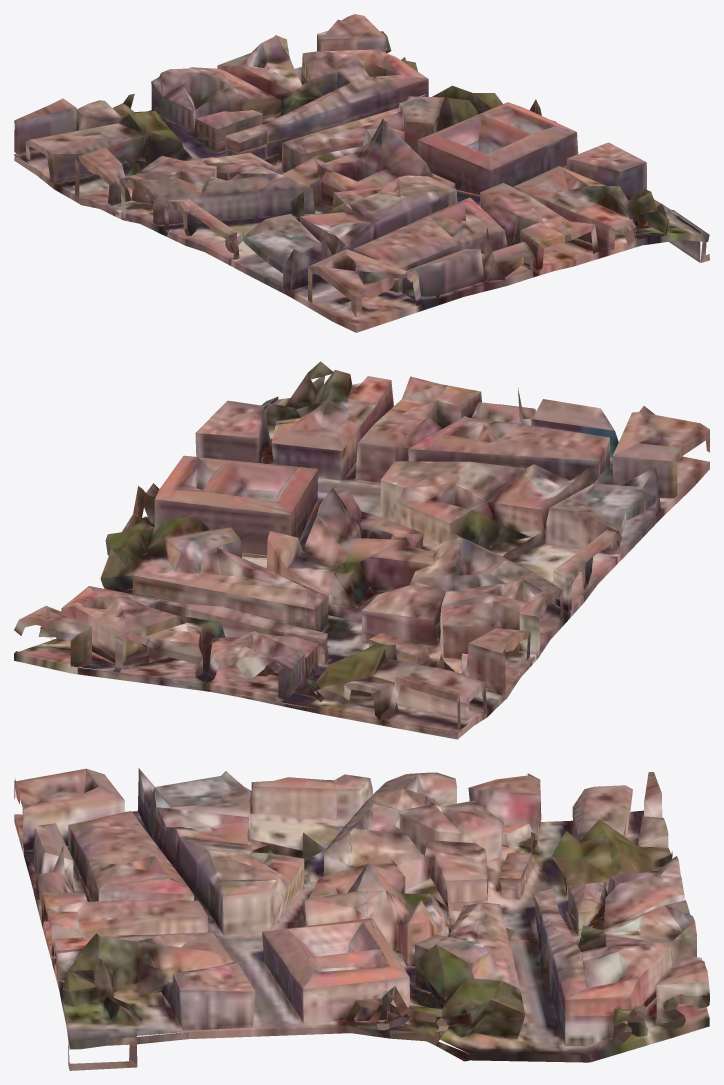
3 renders of one model, top to bottom at view 1: azimuth 30°, elevation 25°; view 2: azimuth 150°, elevation 25°; view 3: azimuth 270°, elevation 25°, orthographic. The views are drawn at different scales.
Parts seen in each view (by area): view 1: Mesh_0; view 2: Mesh_0; view 3: Mesh_0.
Boxes of the visible parts, left/top/right/bottom form: Mesh_0: left=14, top=14, right=709, bottom=332; Mesh_0: left=14, top=361, right=709, bottom=739; Mesh_0: left=14, top=768, right=709, bottom=1070.
Size of the model in its own units: 266 by 62.31 by 330.
1 material, 1 textured.
